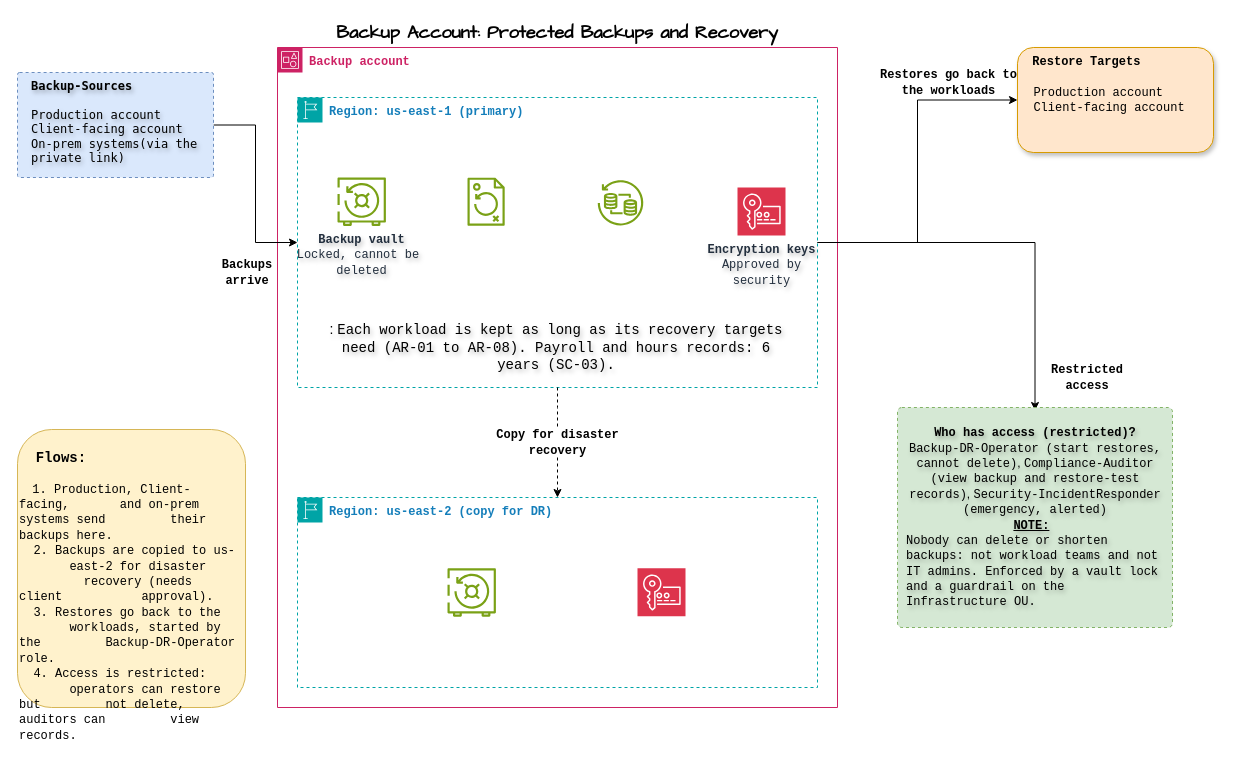
The diagram is 1237 pixels wide and 760 high, and some of its shapes have lost their labels. Here are the shapes that lost their labels. From the top down, the centre of each, then its label:
point (485, 201): Backup plan Rules set for all accounts
point (621, 201): Restore tests Proof that restores work
point (471, 592): Copies of Backup For DR
point (661, 591): Regional keys
